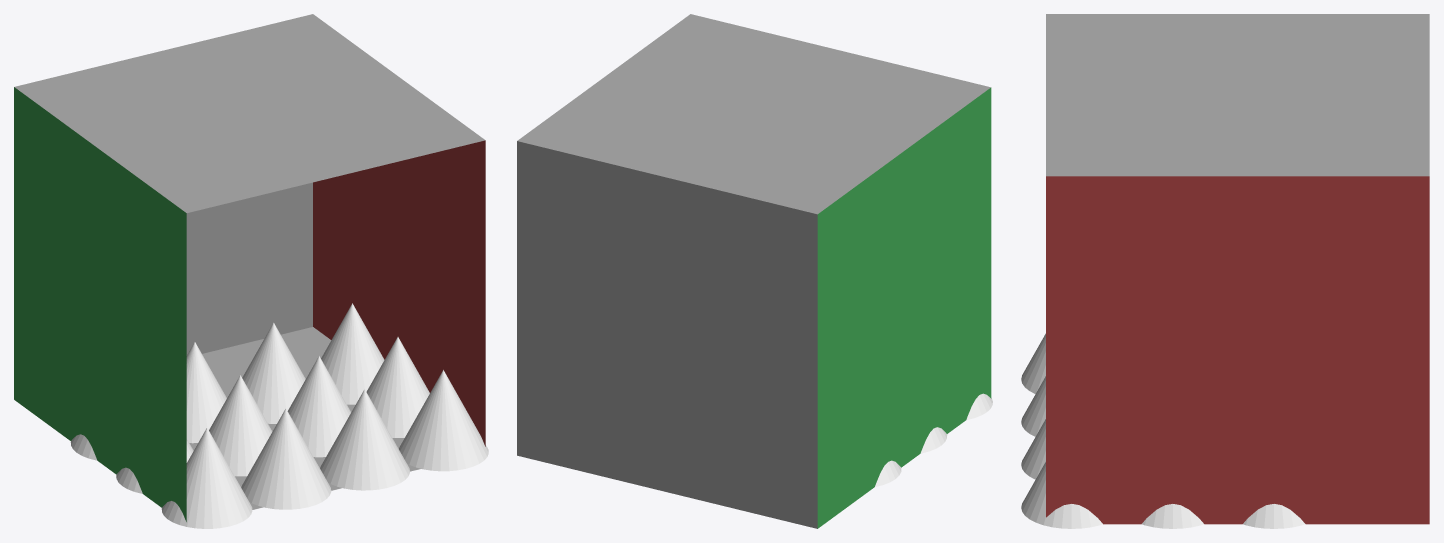
Rendered from cornell2.glb.
3 views of the same model, side by side, from view 1: azimuth 30°, elevation 25°; view 2: azimuth 150°, elevation 25°; view 3: azimuth 270°, elevation 25° (orthographic). The views are drawn at different scales.
Visible parts, largest first — view 1: Cube, Cone; view 2: Cube, Cone; view 3: Cube, Cone.
Part boxes in pixels (x1,y1,x2,y2): Cube: (14, 14, 485, 521); Cone: (70, 303, 488, 528); Cube: (517, 14, 991, 528); Cone: (875, 393, 992, 486); Cube: (1046, 14, 1429, 524); Cone: (1021, 333, 1305, 528).
Size of the model in its own units: 2.11 by 2 by 2.13.
4 materials, 4 textured.
